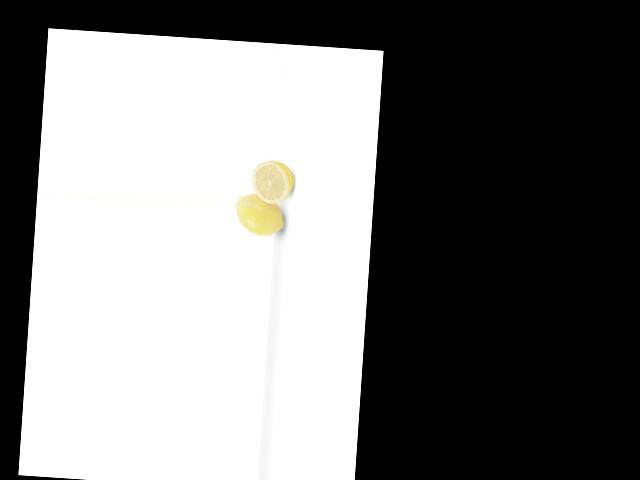lemon: (232, 189, 288, 240)
